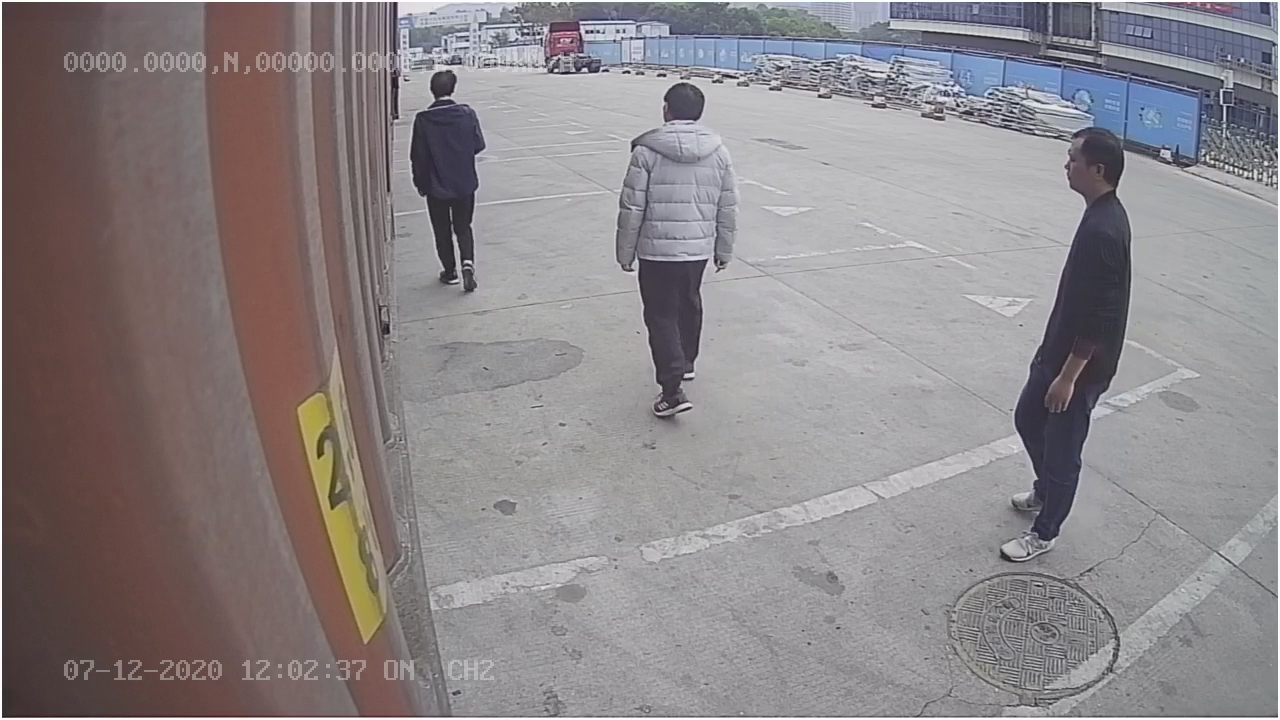person: (995, 116, 1132, 564), (611, 82, 741, 420), (405, 66, 499, 297)
